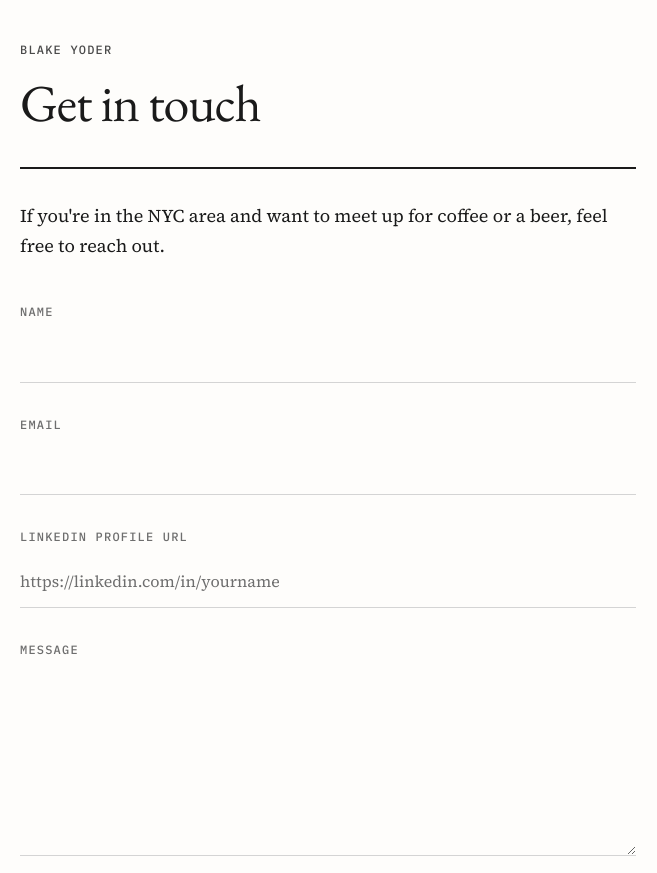
ContactForm › replaces the form with a confirmation after a successful send
Type "Blake" into the field labelled "Name".
click(328, 356); type("Blake")  # box [20,330,636,383]
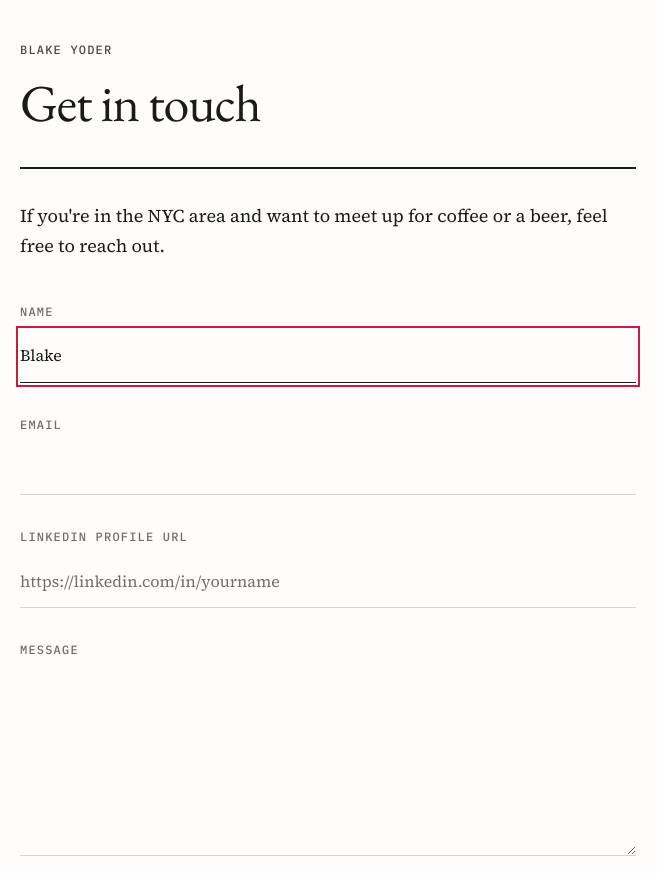
Type "visitor@example.com" into the field labelled "Email".
click(328, 469); type("visitor@example.com")  # box [20,443,636,495]
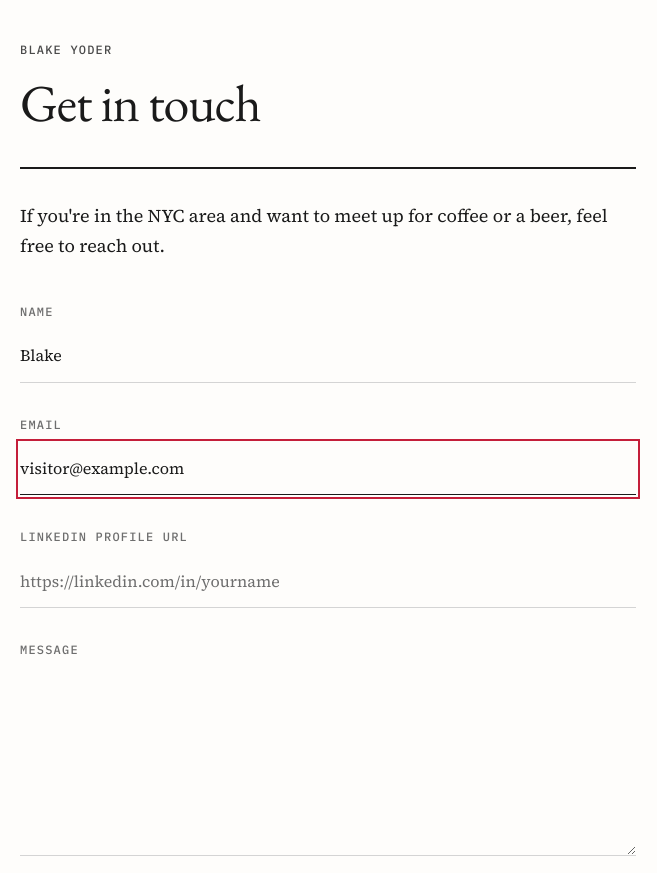
Type "https://linkedin.com/in/someone" into the field labelled "LinkedIn Profile URL".
click(328, 582); type("https://linkedin.com/in/someone")  # box [20,556,636,608]
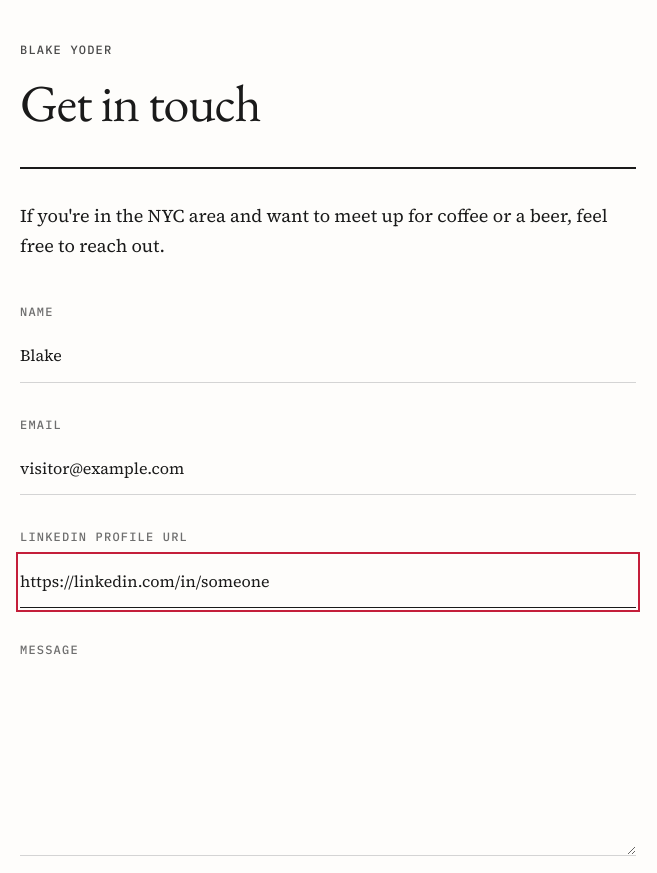
Type "Hello there, this is me." into the text box labelled "Message".
click(328, 762); type("Hello there, this is me.")  # box [20,668,636,856]
(page scrolled)
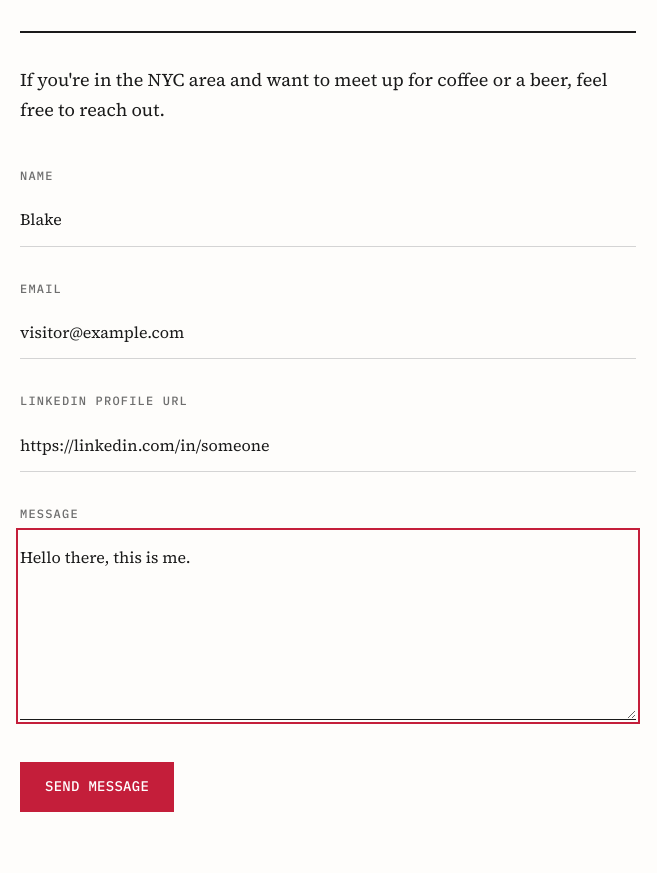
Click the button "Send message".
click(97, 787)  # box [20,762,174,812]
(page scrolled)
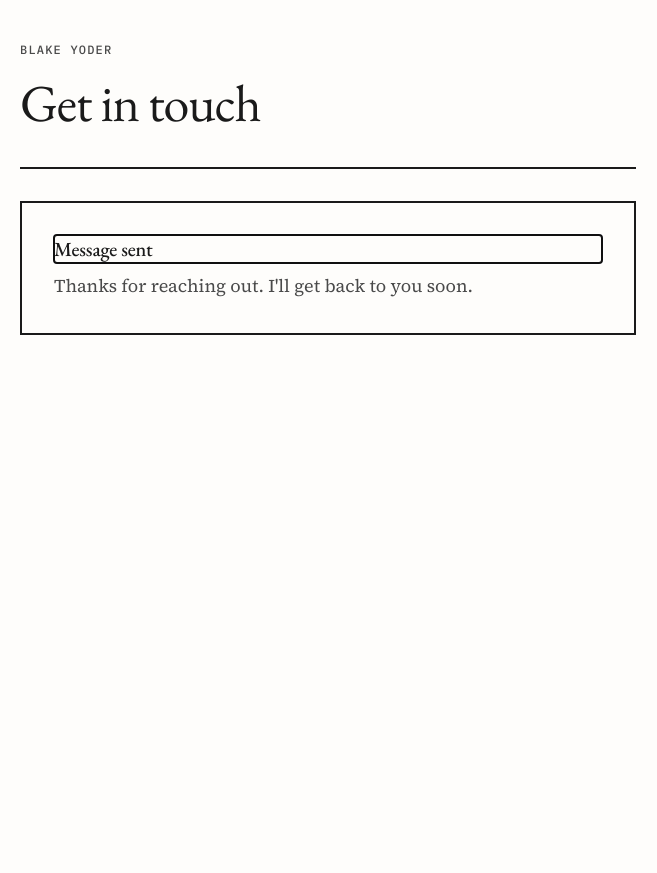
Expected: the heading "Message sent" is shown, [54,236,152,262]
Expected: the label labelled "Name" is gone
